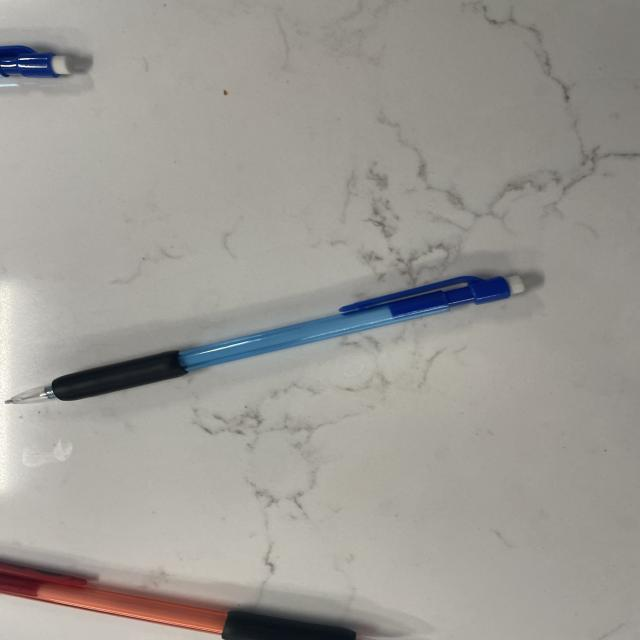mechanical-pencils: (12, 272, 533, 412), (2, 563, 376, 640), (1, 44, 71, 76)
